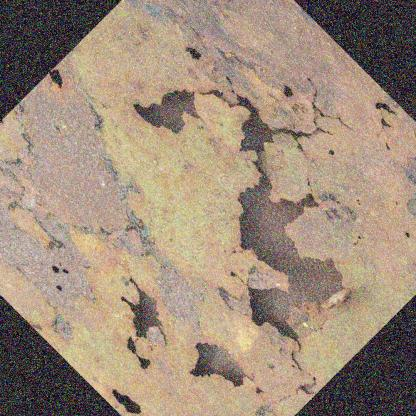burst: (229, 85, 364, 339), (114, 270, 175, 367), (183, 337, 256, 403), (122, 83, 197, 145)
